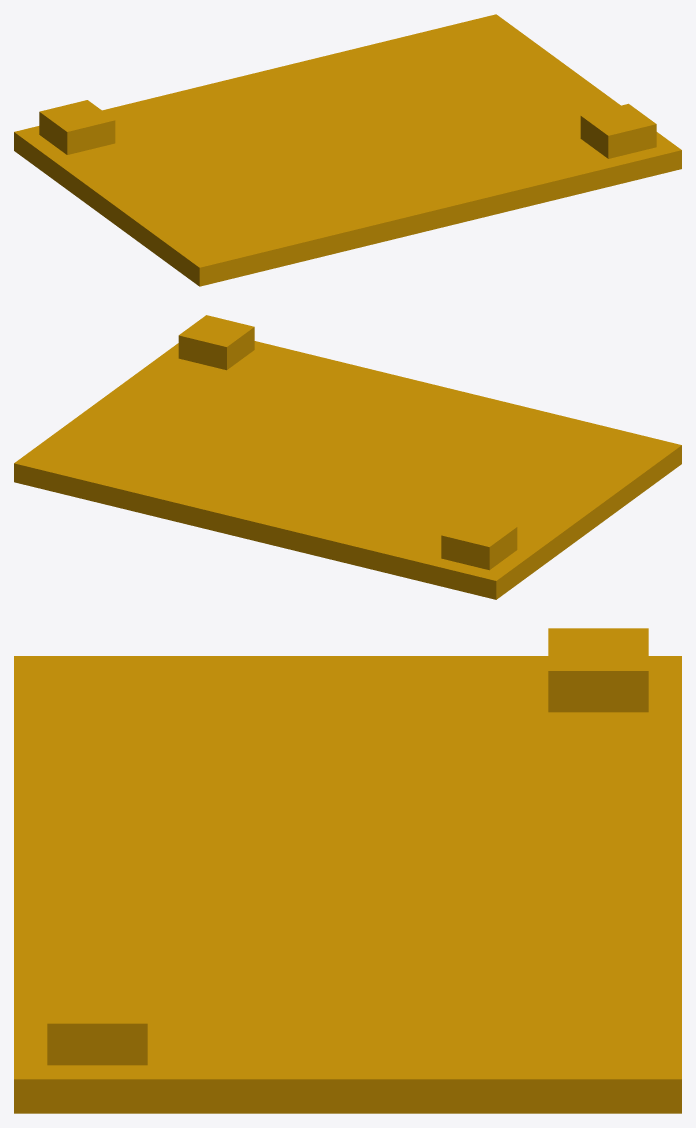
3 renders of one model, top to bottom at view 1: azimuth 30°, elevation 25°; view 2: azimuth 150°, elevation 25°; view 3: azimuth 270°, elevation 25°, orthographic. The views are drawn at different scales.
Parts seen in each view (by area): view 1: pallet, block:2, block:1; view 2: pallet, block:2, block:1; view 3: pallet, block:1, block:2.
Boxes of the visible parts, x1,y1,x2,y2 form: pallet: (14, 14, 681, 286); block:2: (580, 103, 656, 158); block:1: (39, 100, 115, 154); pallet: (14, 341, 681, 599); block:2: (178, 315, 254, 370); block:1: (441, 515, 517, 570); pallet: (14, 656, 681, 1113); block:1: (548, 628, 648, 712); block:2: (47, 981, 147, 1065).
Bounding box in the file's own units: 1.2 × 0.1 × 0.8.
